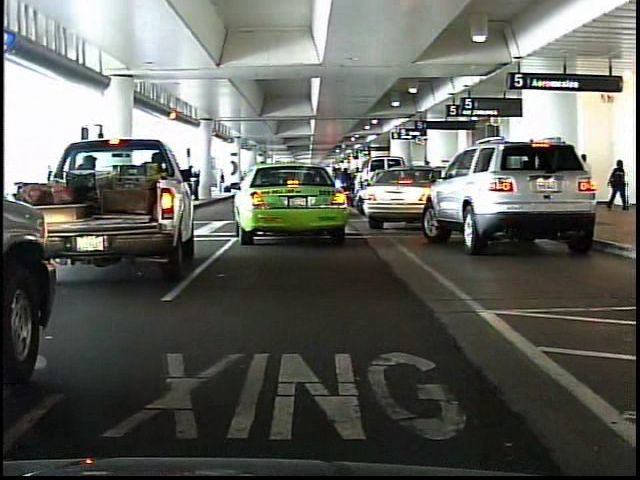person: (608, 159, 633, 216)
